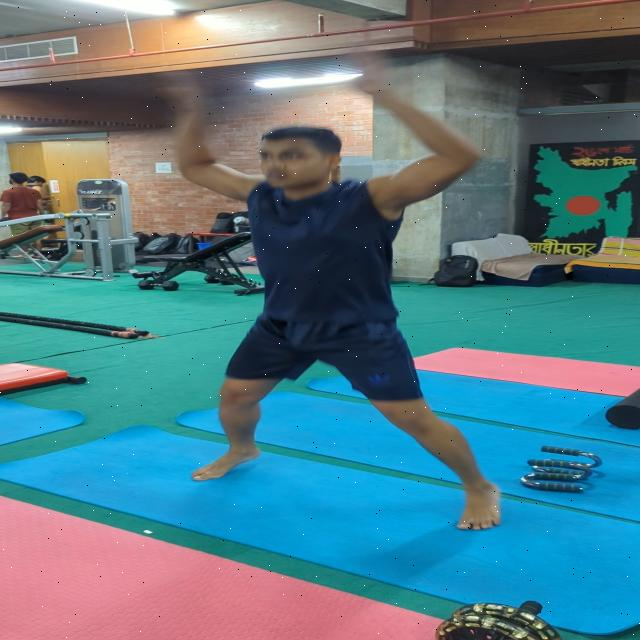Normal_JumpingJacks: (166, 38, 553, 532)
